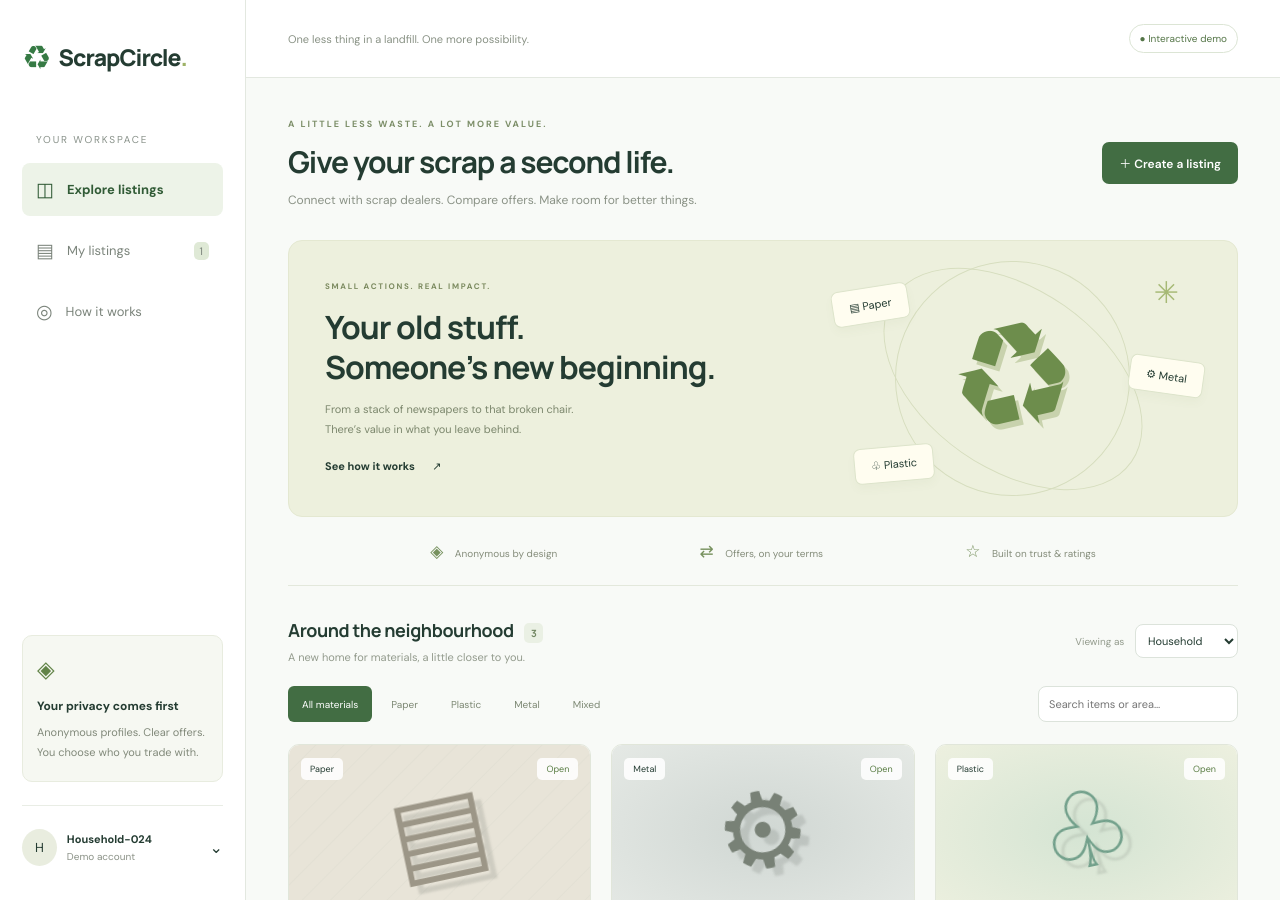
Scenario: marketplace demo › requires a photo before creating a listing
The image size is (1280, 900).
Click the button "＋ Create a listing".
click(1170, 163)  # box x1=1102 y1=142 x2=1238 y2=184
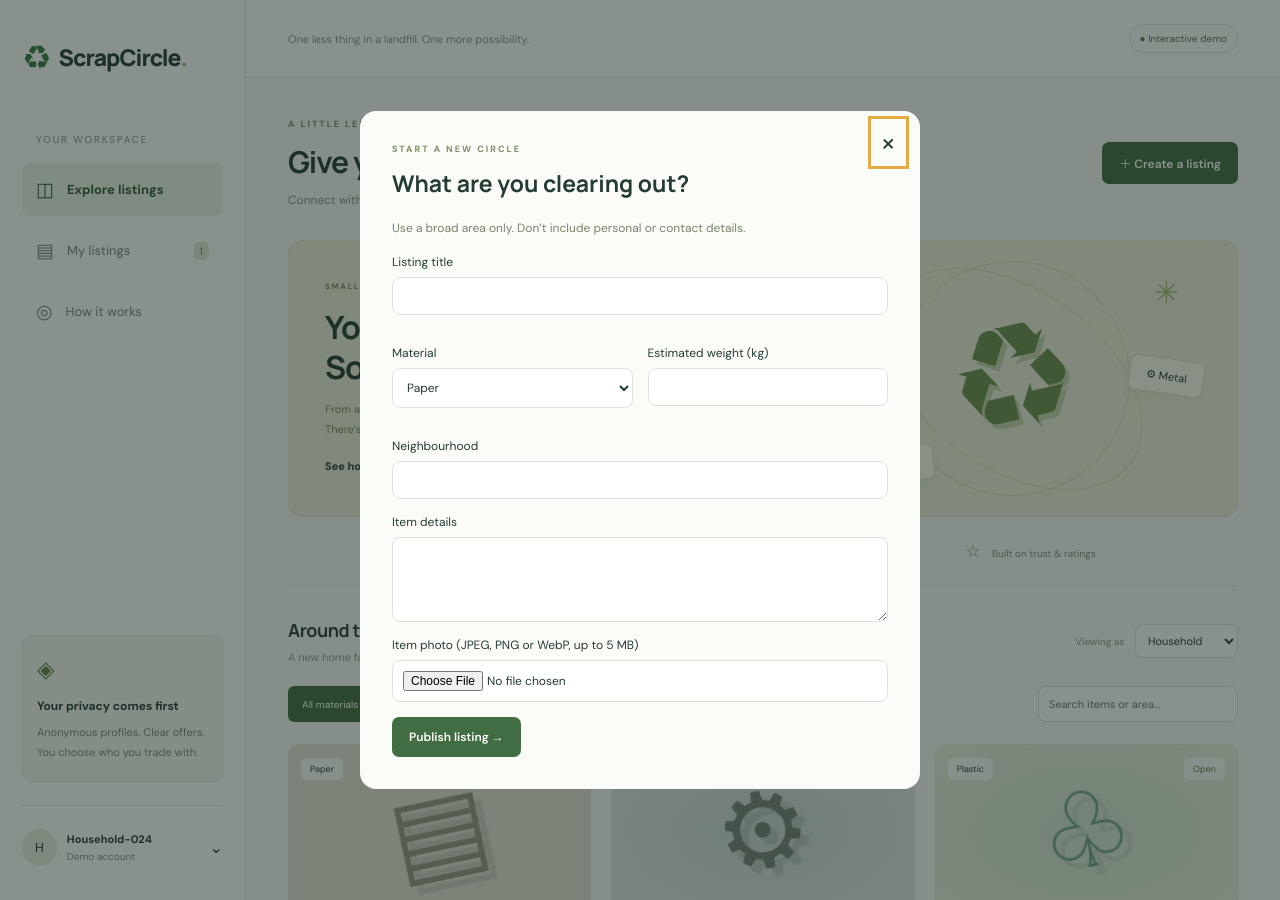
Type "Old newspapers" into the field labelled "Listing title".
click(640, 296); type("Old newspapers")  # box x1=392 y1=277 x2=888 y2=315
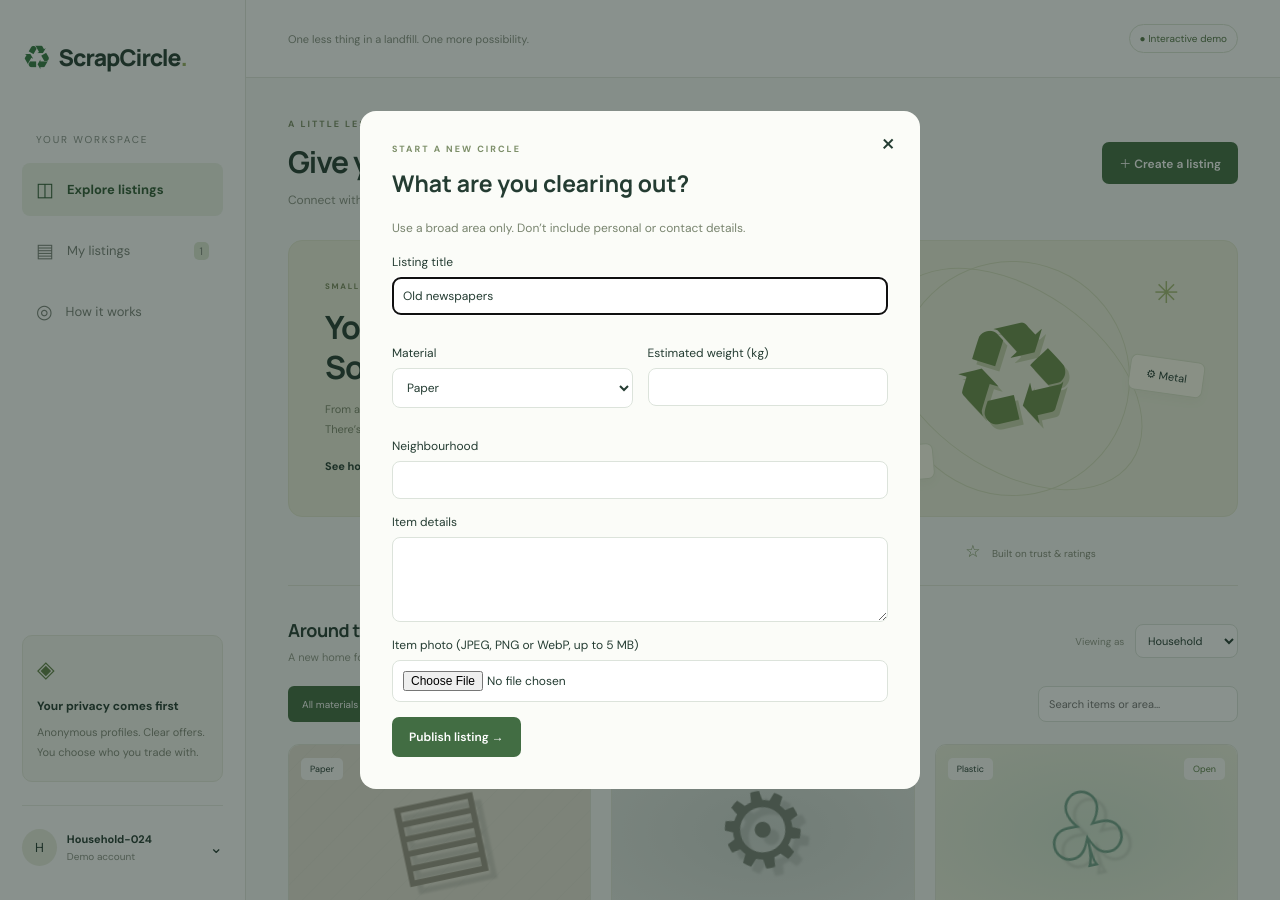
Type "10" into the number field labelled "Estimated weight (kg)".
click(768, 387); type("10")  # box x1=648 y1=368 x2=888 y2=406
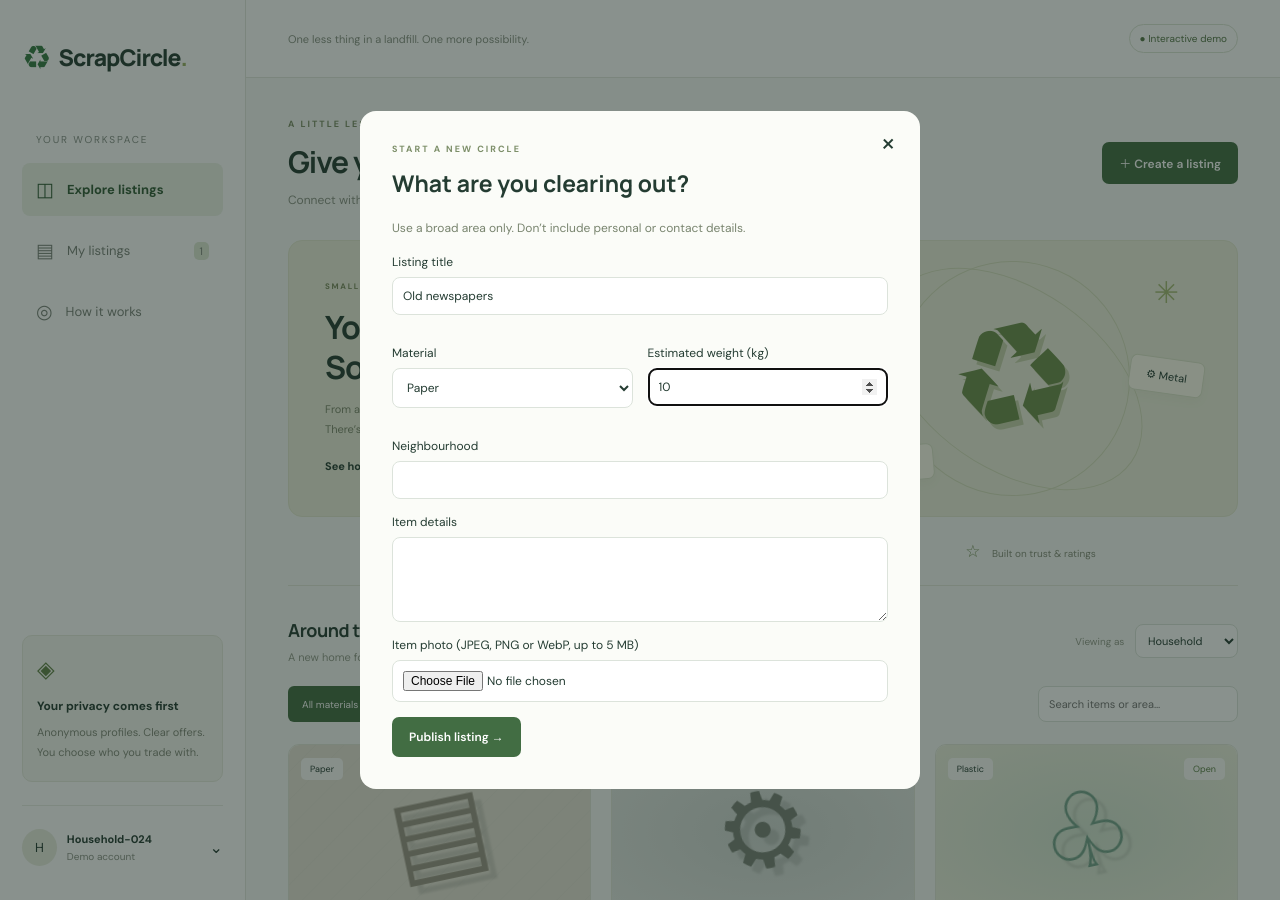
Type "Indiranagar" into the field labelled "Neighbourhood".
click(640, 480); type("Indiranagar")  # box x1=392 y1=461 x2=888 y2=499
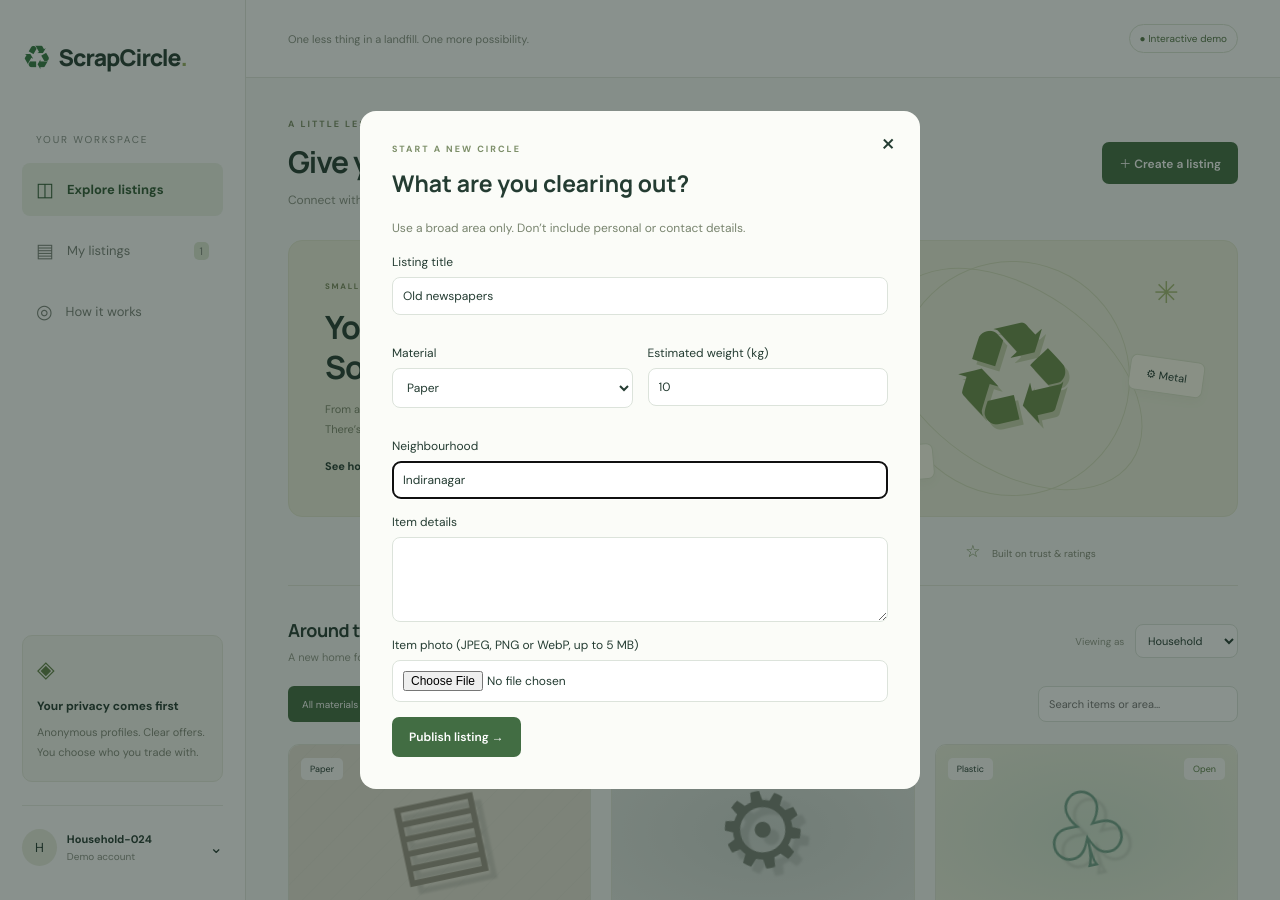
Type "Dry bundled newspapers" into the text box labelled "Item details".
click(640, 580); type("Dry bundled newspapers")  # box x1=392 y1=537 x2=888 y2=622
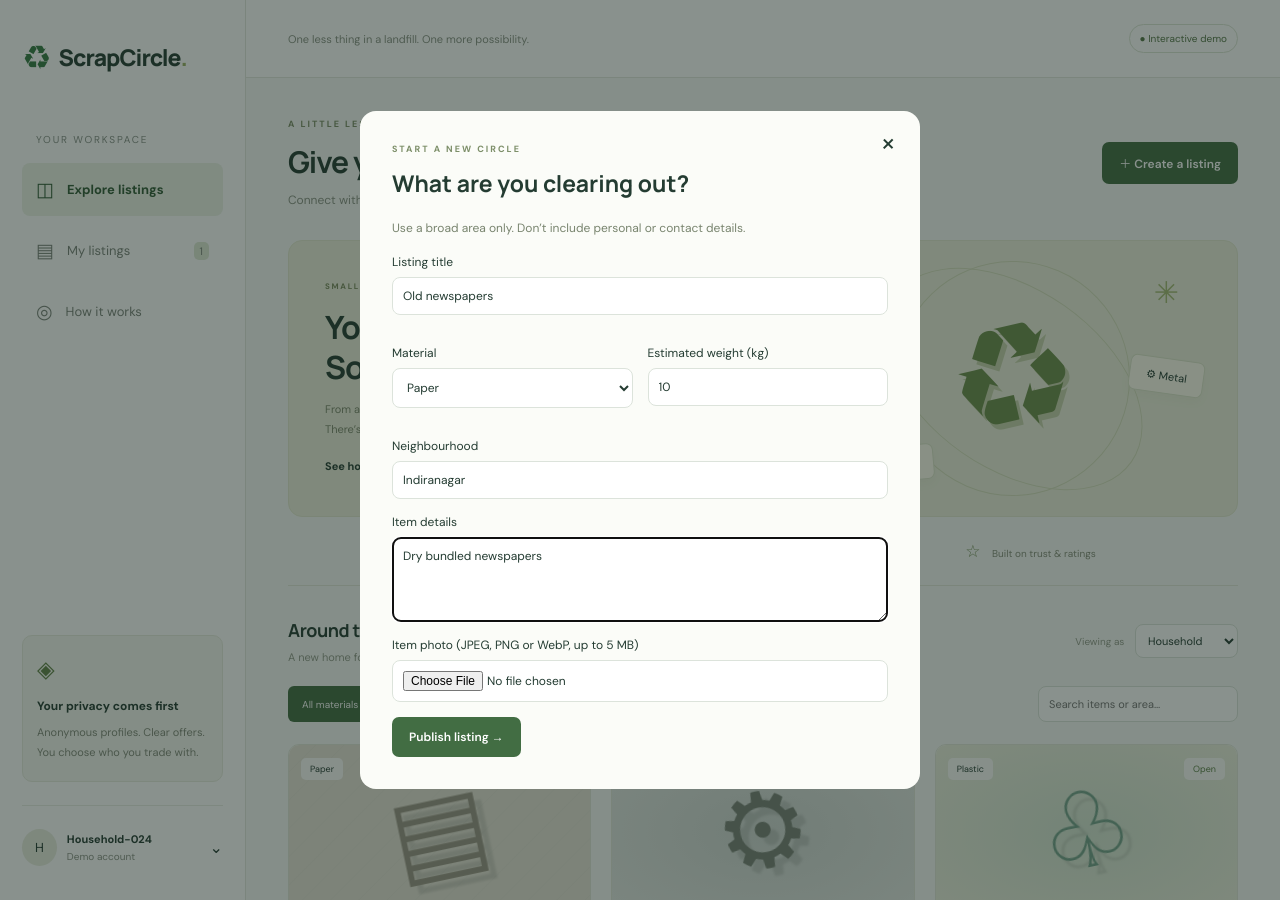
Click the button "Publish listing →".
click(456, 737)  # box x1=392 y1=717 x2=521 y2=757
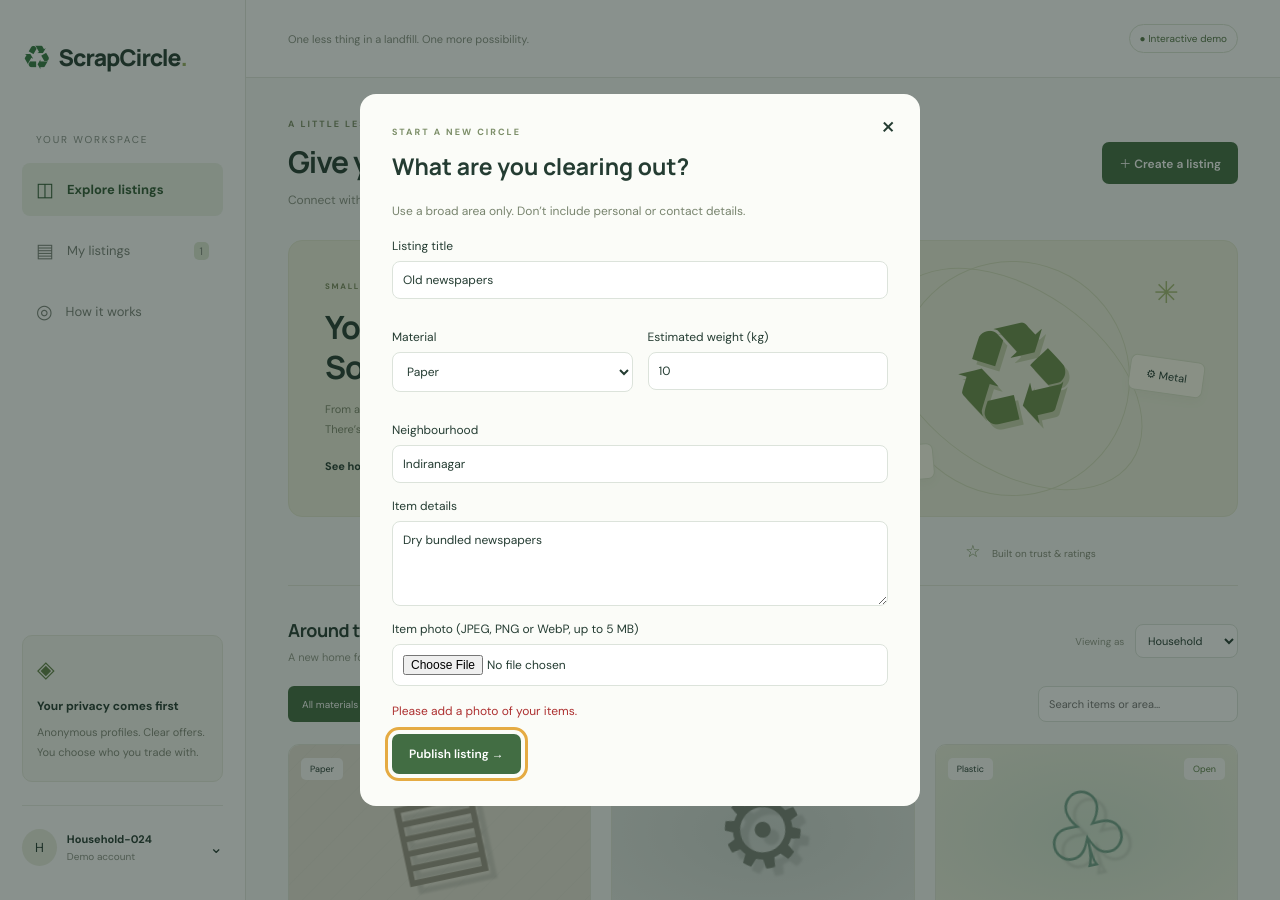
Expected: the message shows "Please add a photo", x1=392 y1=702 x2=577 y2=718
